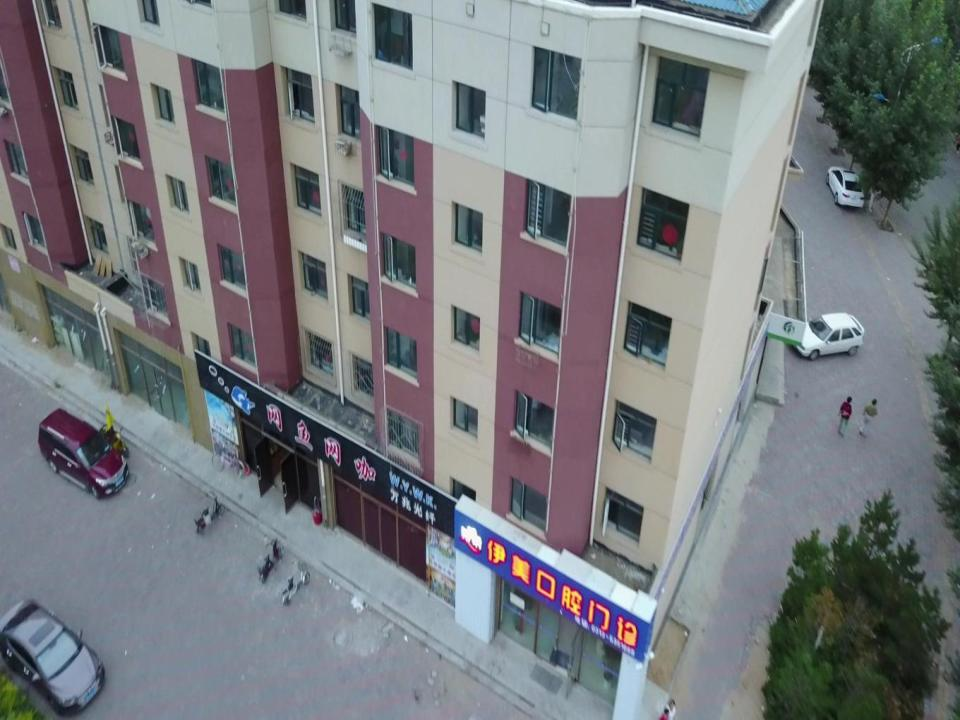car: (1, 598, 104, 716), (38, 408, 129, 500), (796, 312, 864, 362), (826, 166, 864, 208)
